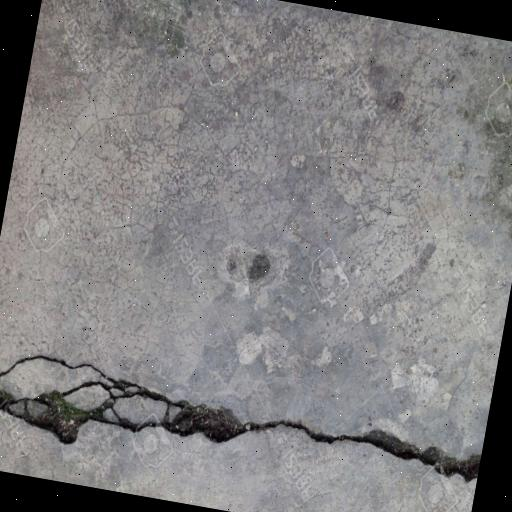spalling: (0, 355, 481, 486)
